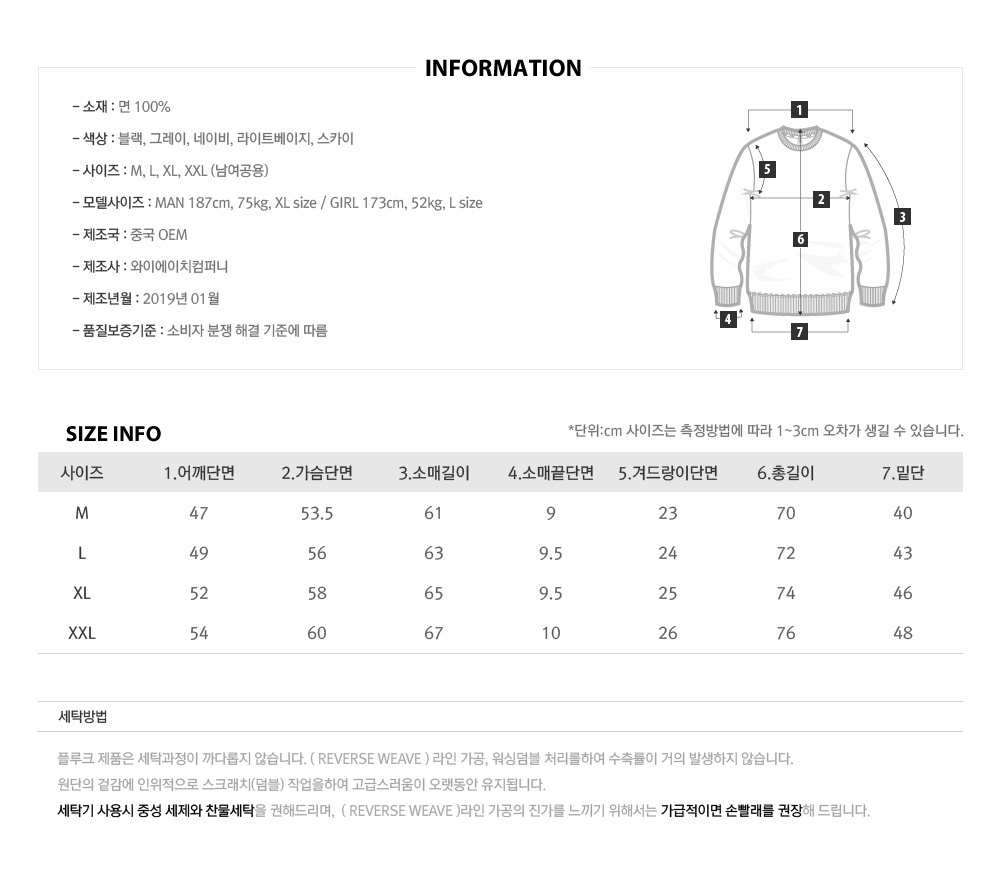table: (38, 453, 962, 651)
